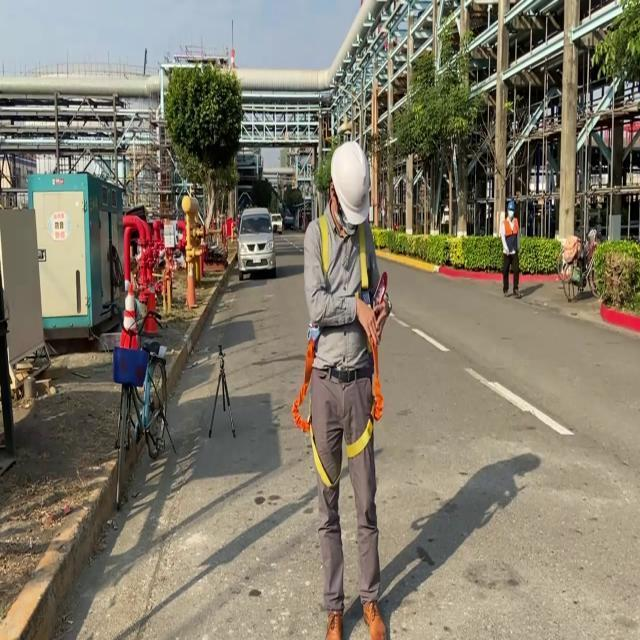Harness: (291, 327, 338, 488), (348, 346, 385, 458)
